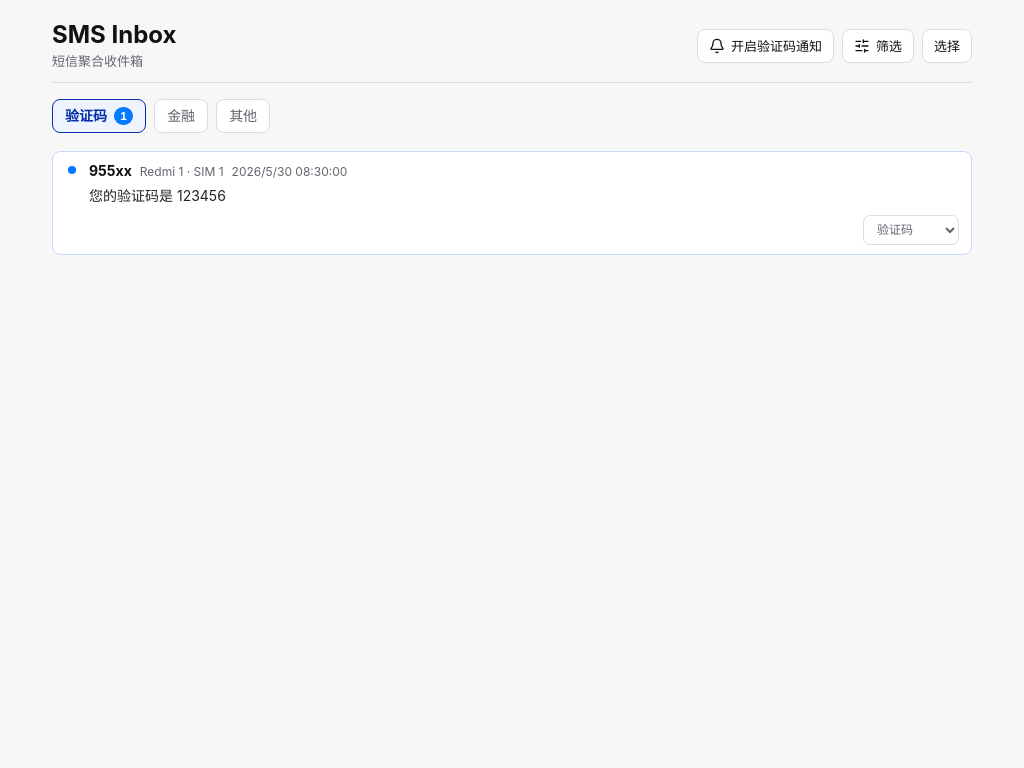
Test: InboxApp › opens a message detail dialog and marks an unread message read
The image size is (1024, 768).
Check: the text "您的验证码是 123456" is shown, box [89,187,226,204]
Click the button with aria-label "短信 955xx" at coordinates (110, 171), box [89,162,347,204]
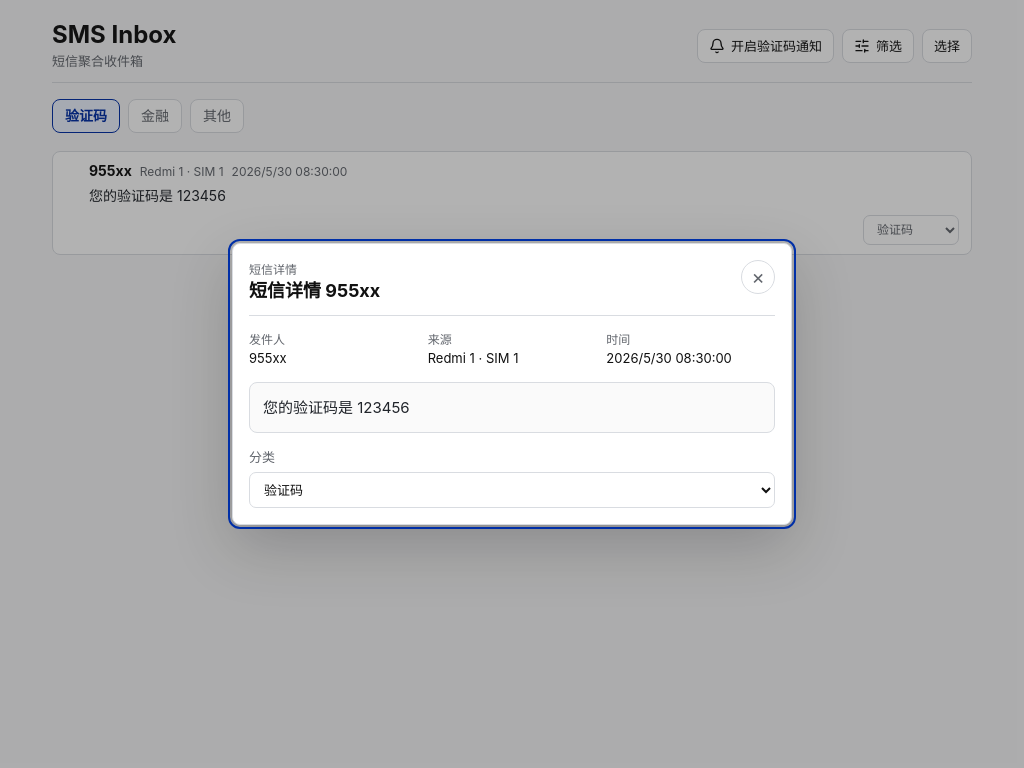
Check: the button "验证码" does not show "1", box [52,99,120,133]
Check: the dialog "短信详情 955xx" is shown, box [232,243,792,525]
